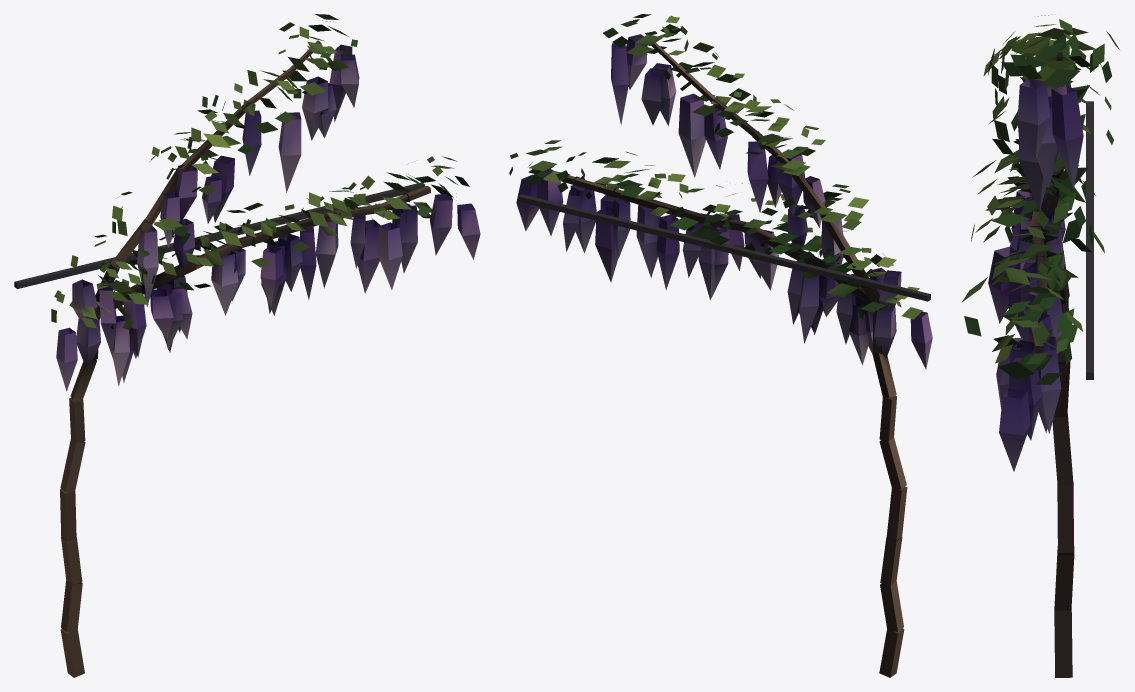
Rendered from glicinia_muro.glb.
3 renders of one model, left to right at view 1: azimuth 30°, elevation 25°; view 2: azimuth 150°, elevation 25°; view 3: azimuth 270°, elevation 25°, orthographic. The views are drawn at different scales.
Parts seen in each view (by area): view 1: glicinia_muro_vegetacion, glicinia_muro_piezas, glicinia_muro_fijo; view 2: glicinia_muro_vegetacion, glicinia_muro_piezas, glicinia_muro_fijo; view 3: glicinia_muro_vegetacion, glicinia_muro_piezas, glicinia_muro_fijo.
Part boxes in pixels (bbox=[...]): glicinia_muro_vegetacion: bbox=[51, 14, 480, 391]; glicinia_muro_piezas: bbox=[60, 40, 430, 677]; glicinia_muro_fijo: bbox=[14, 182, 424, 288]; glicinia_muro_vegetacion: bbox=[509, 14, 932, 369]; glicinia_muro_piezas: bbox=[550, 42, 907, 677]; glicinia_muro_fijo: bbox=[518, 194, 930, 301]; glicinia_muro_vegetacion: bbox=[961, 14, 1119, 471]; glicinia_muro_piezas: bbox=[1029, 51, 1074, 677]; glicinia_muro_fijo: bbox=[1086, 101, 1093, 379].
Size of the model in its own units: 3.42 by 4.46 by 0.7937.
